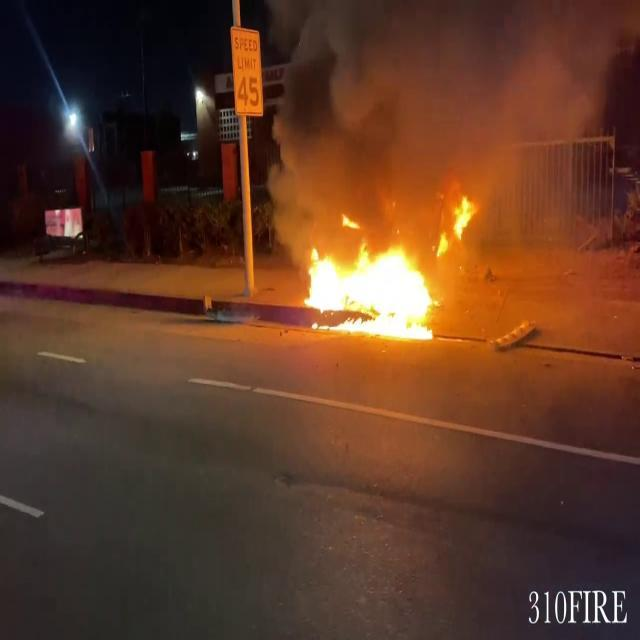Fire: (292, 222, 472, 344)
Smoke: (258, 0, 628, 199)
